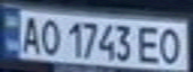1: (63, 18, 84, 57)
3: (112, 21, 136, 63)
4: (97, 20, 118, 61)
7: (78, 19, 100, 58)
A: (18, 14, 42, 54)
E: (136, 24, 163, 64)
O: (154, 25, 187, 65), (36, 16, 63, 56)
